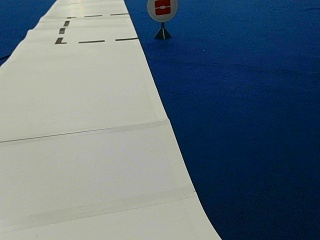company: (146, 0, 178, 22)
